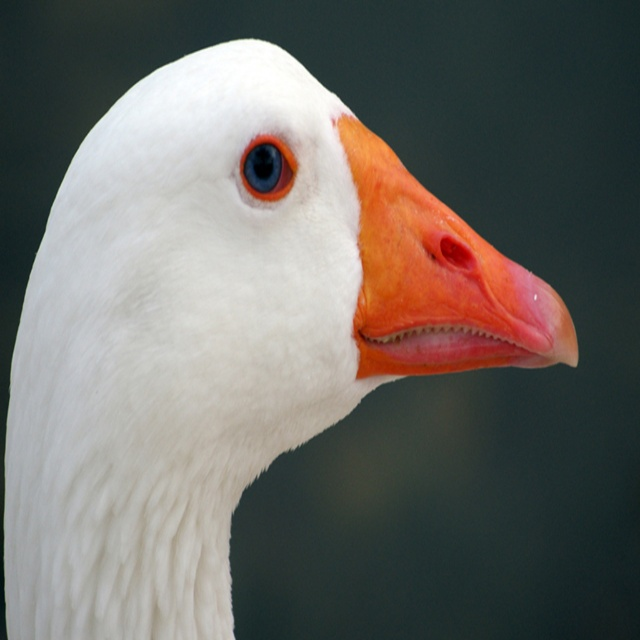Goose: (0, 49, 584, 640)
